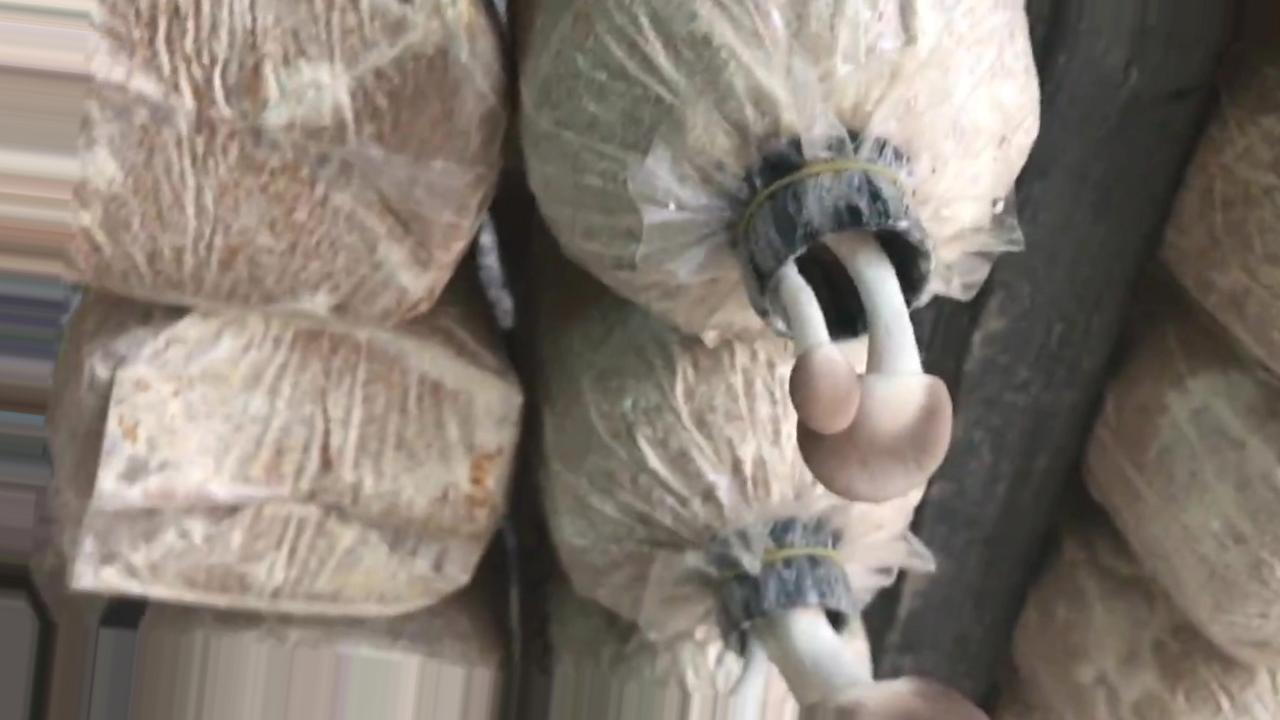nam: (745, 164, 953, 501), (719, 537, 982, 720)
